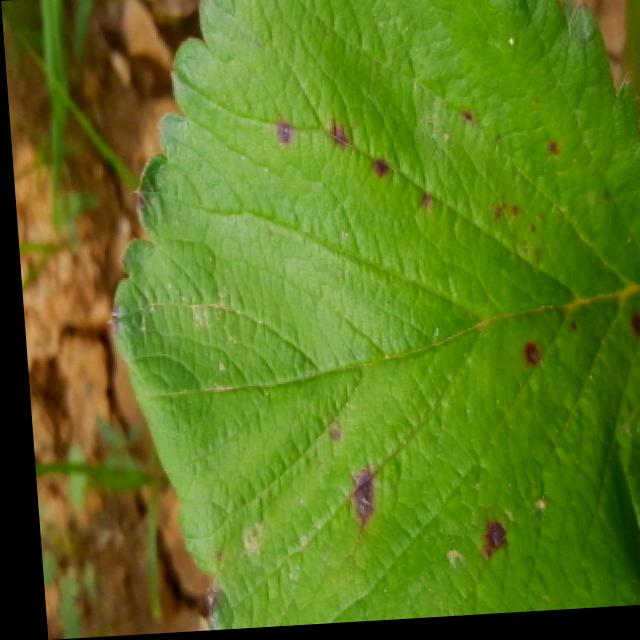Leaf Spot: (102, 0, 640, 632)
